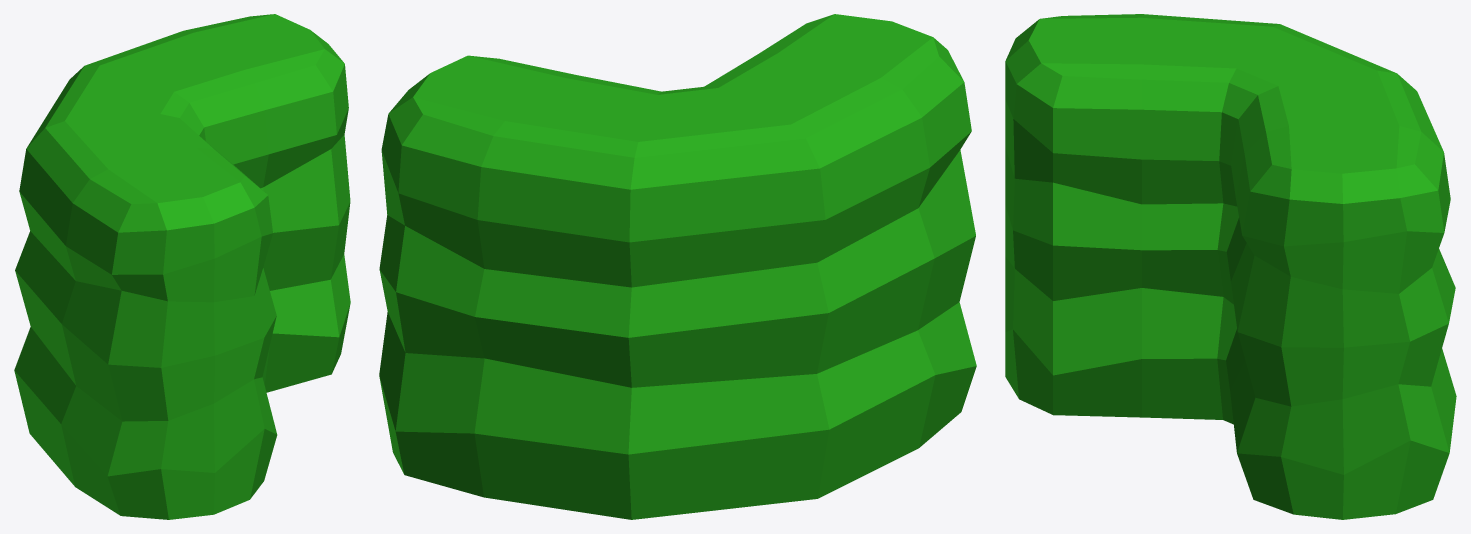
Rendered from Hedge_Corner.fbx.
The picture shows the model from 3 angles, left to right: view 1: azimuth 30°, elevation 25°; view 2: azimuth 150°, elevation 25°; view 3: azimuth 270°, elevation 25°; orthographic projection. The views are drawn at different scales.
Parts seen in each view (by area): view 1: Curve_Hedge; view 2: Curve_Hedge; view 3: Curve_Hedge.
Part boxes in pixels (x1,y1,x2,y2): Curve_Hedge: (14,14,350,519); Curve_Hedge: (379,14,976,519); Curve_Hedge: (1005,14,1456,519).
Size of the model in its own units: 502 by 413 by 502.
